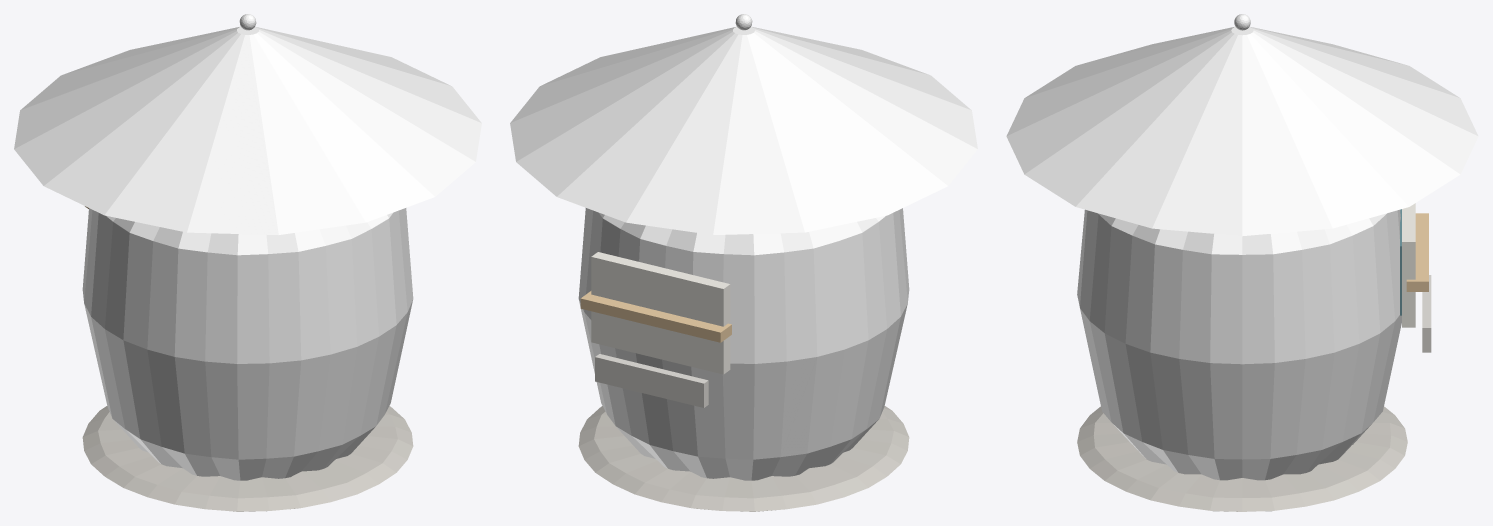
Rendered from quiosque.glb.
3 renders of one model, left to right at view 1: azimuth 30°, elevation 25°; view 2: azimuth 150°, elevation 25°; view 3: azimuth 270°, elevation 25°, orthographic.
Visible parts, largest first — view 1: Quiosque; view 2: Quiosque; view 3: Quiosque.
Boxes of the visible parts, left/top/right/bottom form: Quiosque: left=14, top=14, right=481, bottom=511; Quiosque: left=510, top=14, right=977, bottom=511; Quiosque: left=1006, top=14, right=1478, bottom=511.
Bounding box in the file's own units: 2.1 × 2.15 × 2.1.
